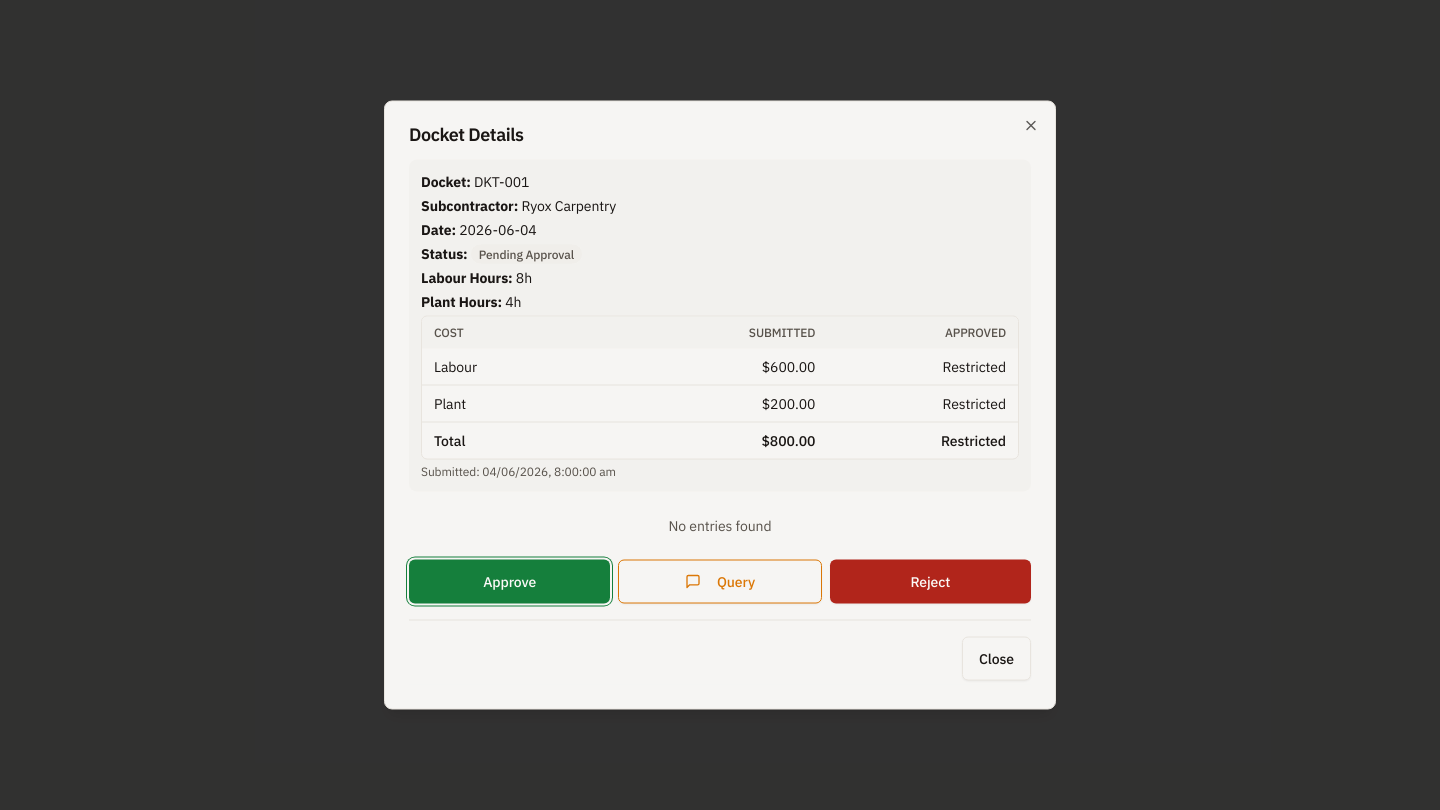
Test: DocketActionModal › transitions from view mode to approve when Approve is clicked
The width and height of the screenshot is (1440, 810).
Click the button "Approve" at coordinates (510, 582), box [409,560,610,604]
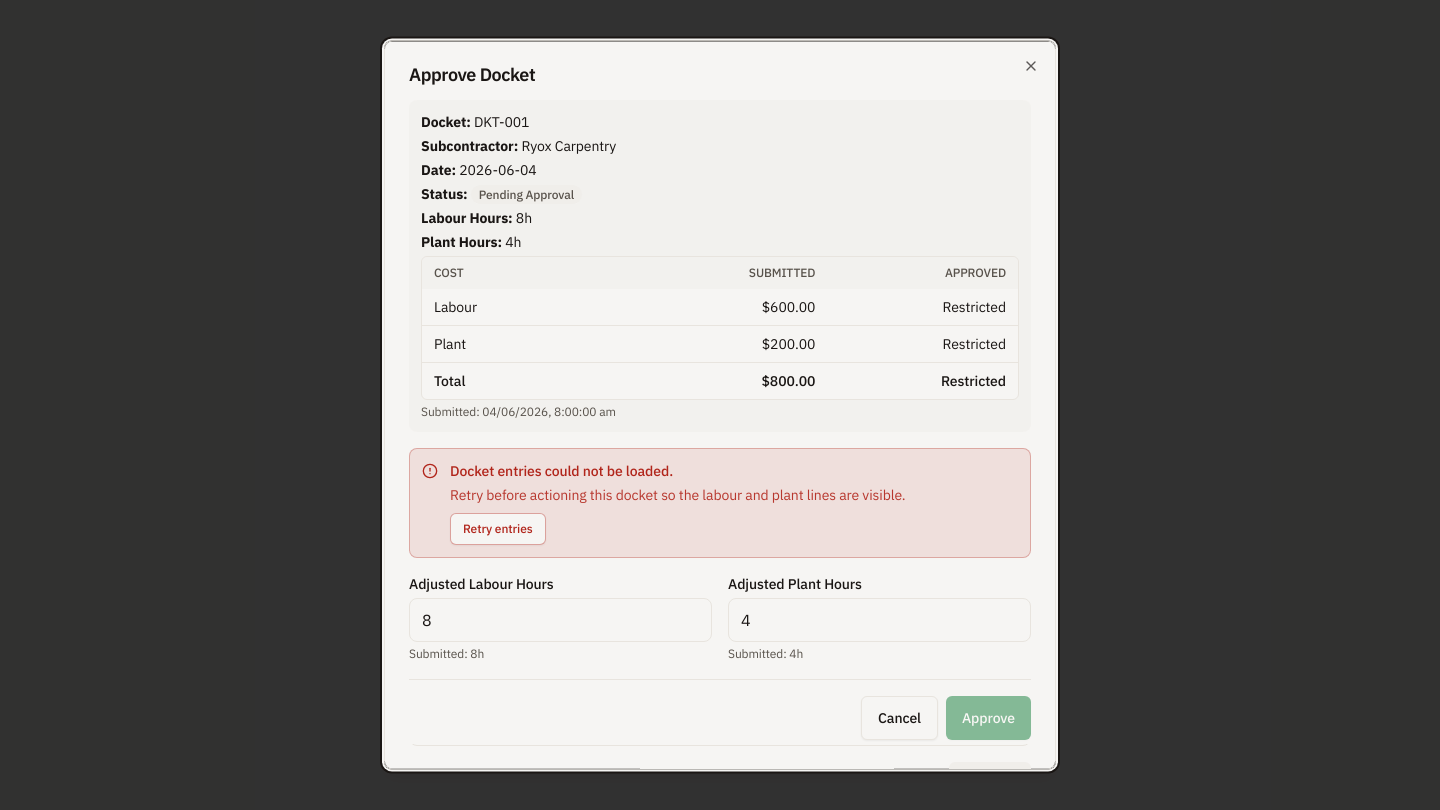
Result: the number field labelled "Adjusted Labour Hours" is shown at [409,598,712,642]
Result: the heading "Approve Docket" is shown at [409,62,535,86]
